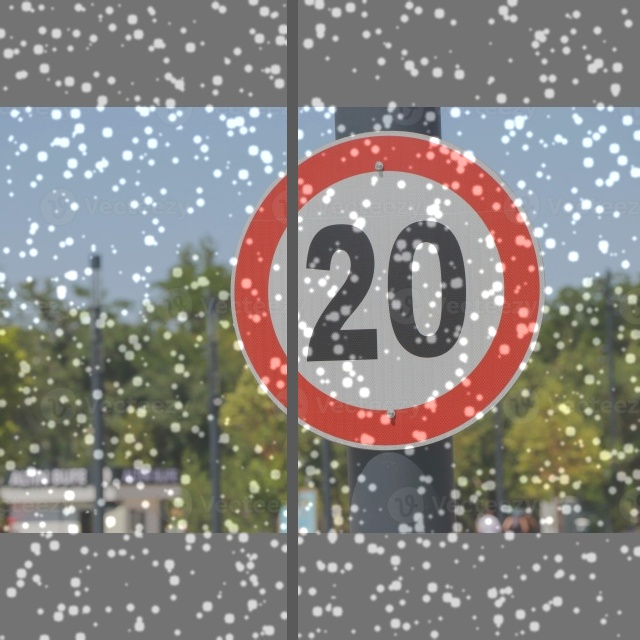Speed_Limit_20: (236, 127, 538, 437)
